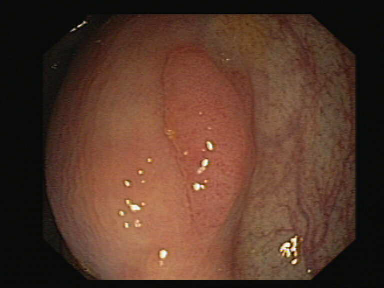polyp: (122, 40, 297, 230)
